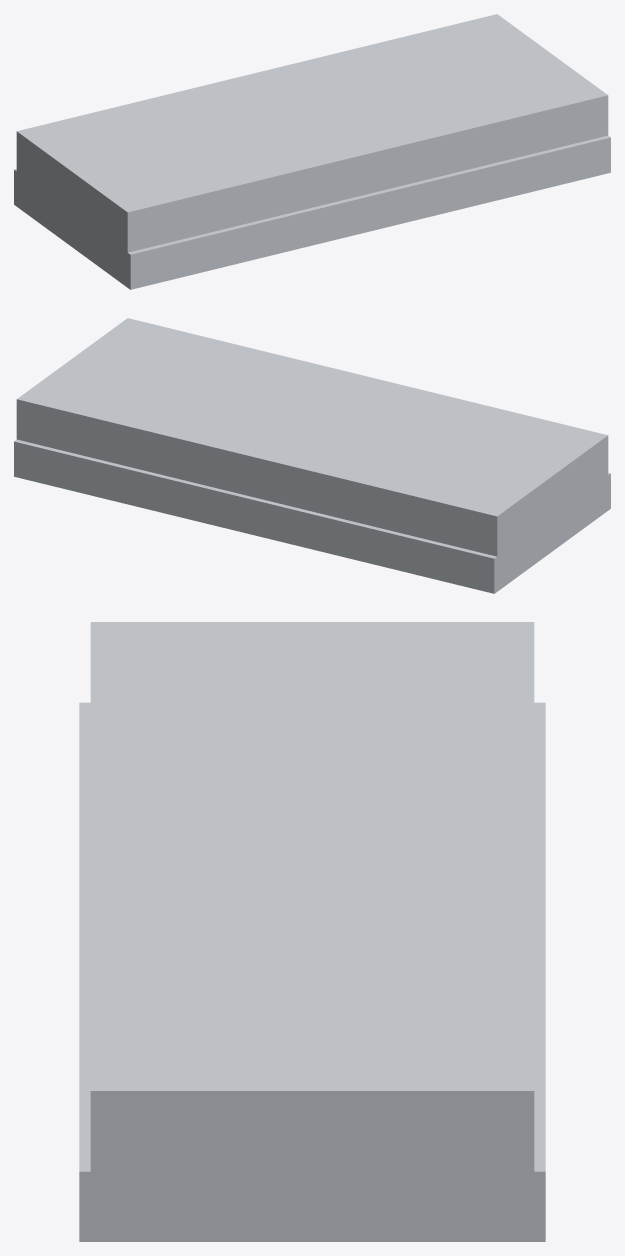
File: telhado_platibanda_rufo_0_5m.glb
The picture shows the model from 3 angles, top to bottom: view 1: azimuth 30°, elevation 25°; view 2: azimuth 150°, elevation 25°; view 3: azimuth 270°, elevation 25°; orthographic projection. The views are drawn at different scales.
Parts seen in each view (by area): view 1: telhado_platibanda_rufo_0_5m; view 2: telhado_platibanda_rufo_0_5m; view 3: telhado_platibanda_rufo_0_5m.
Part boxes in pixels (left/top/right/bottom): telhado_platibanda_rufo_0_5m: left=14, top=14, right=610, bottom=289; telhado_platibanda_rufo_0_5m: left=14, top=318, right=610, bottom=593; telhado_platibanda_rufo_0_5m: left=79, top=622, right=545, bottom=1241.
Size of the model in its own units: 0.5 by 0.075 by 0.21.
Materials: 1 (1 with a texture image).
